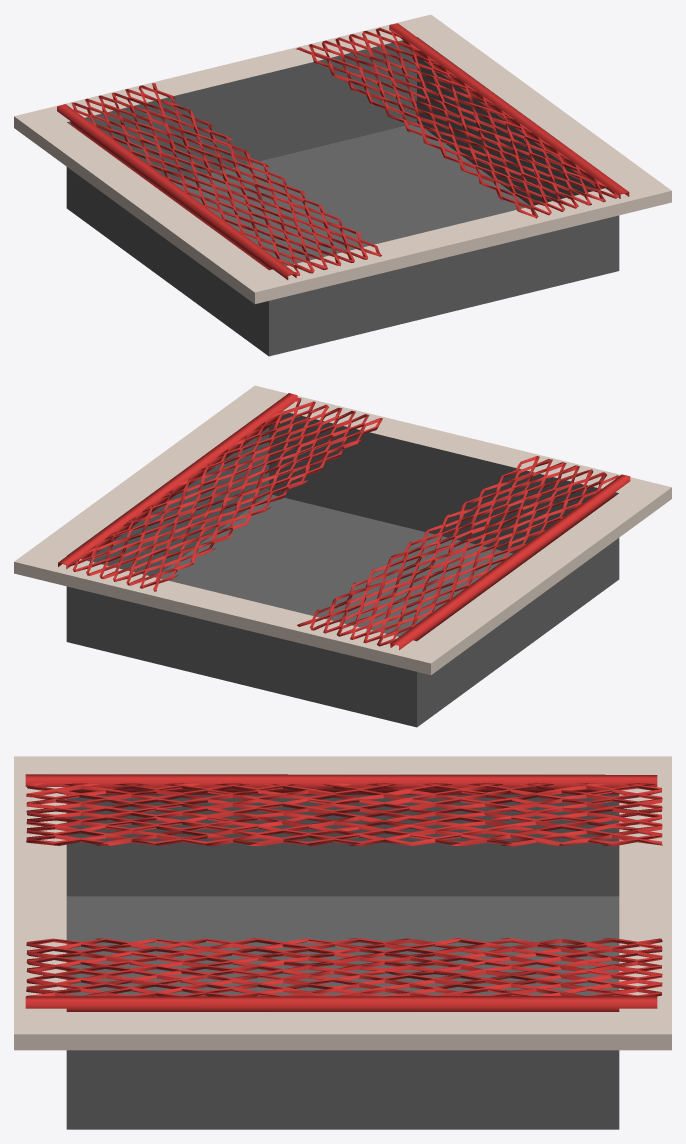
Rendered from Antipoco.fbx.
3 views of the same model, one above another, from view 1: azimuth 30°, elevation 25°; view 2: azimuth 150°, elevation 25°; view 3: azimuth 270°, elevation 25° (orthographic). The views are drawn at different scales.
Visible parts, largest first — view 1: Antipoco; view 2: Antipoco; view 3: Antipoco.
Part boxes in pixels (x1,y1,x2,y2): Antipoco: [14, 14, 671, 356]; Antipoco: [14, 385, 671, 727]; Antipoco: [14, 756, 671, 1129].
Bounding box in the file's own units: 200 × 41.79 × 200.
